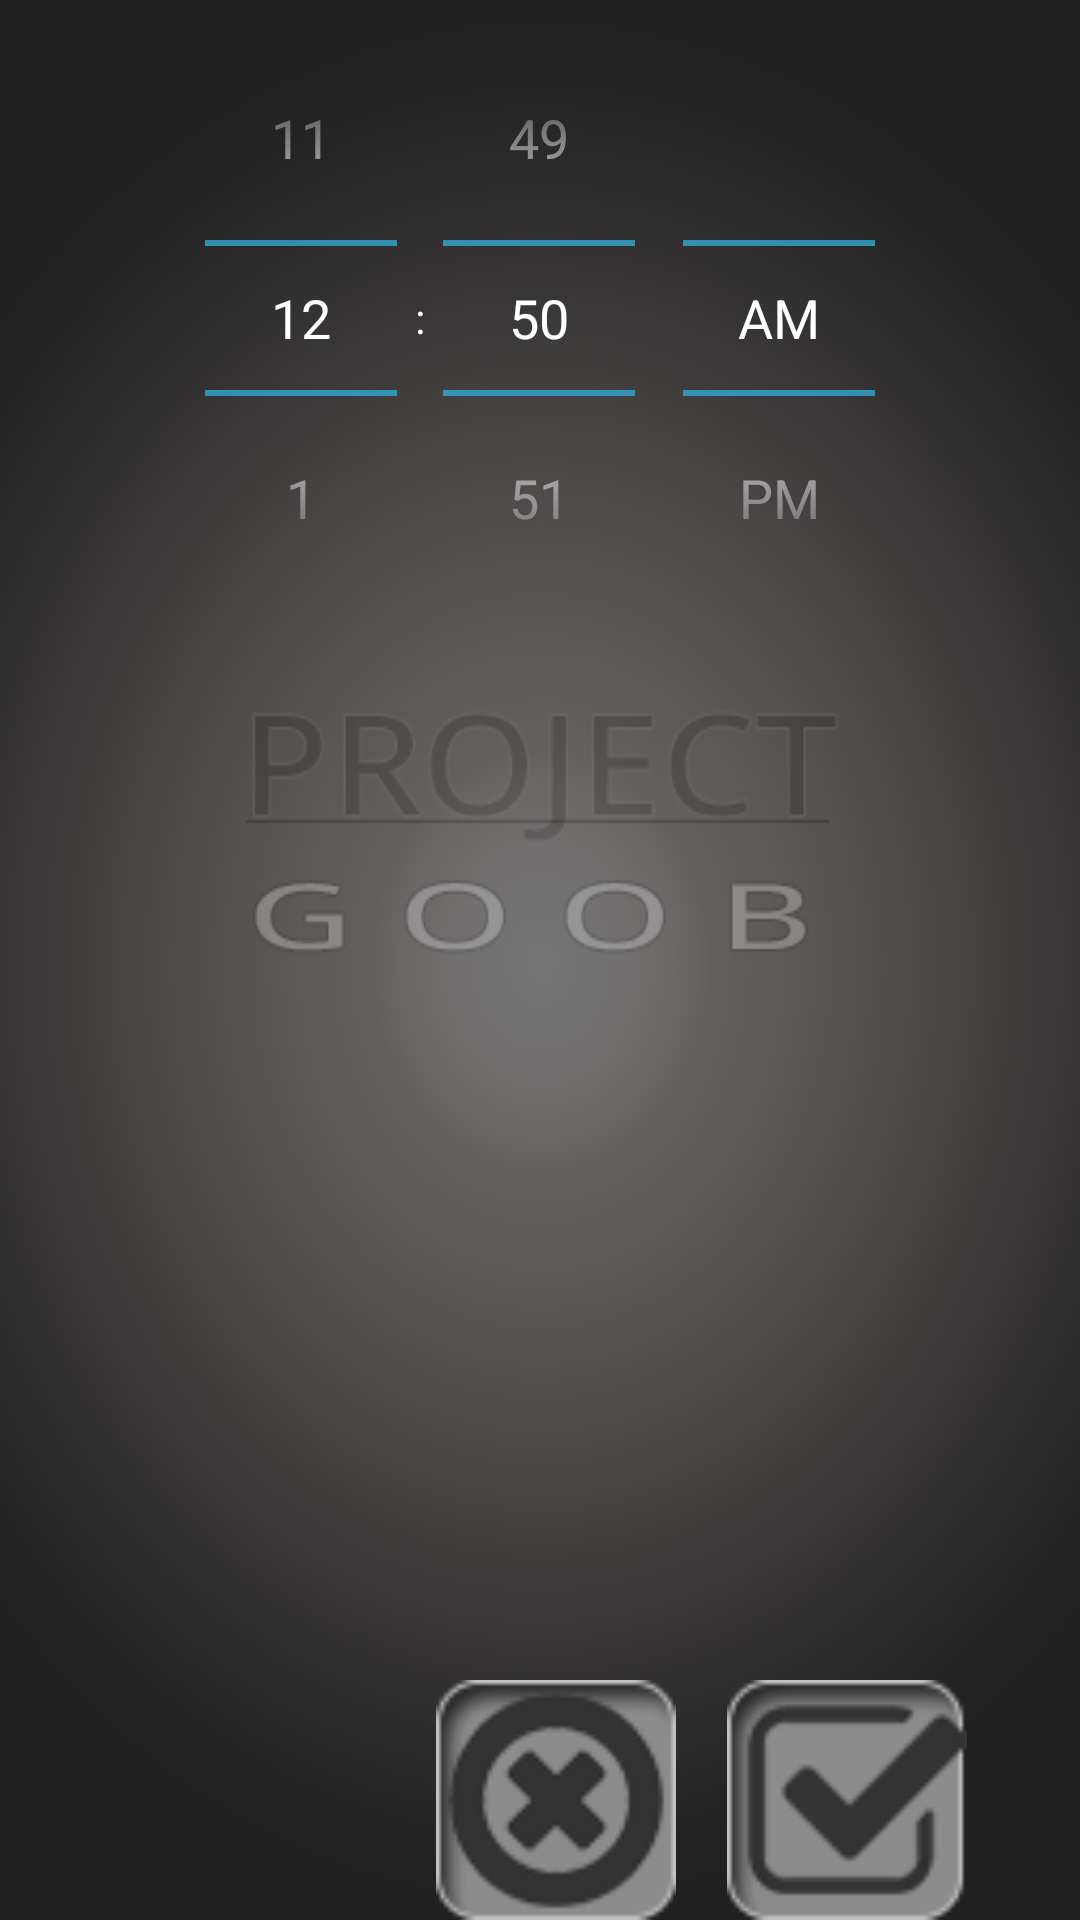

Where icons sit on this 1080 × 1920 app screen, as (x1, y1, x2, y2):
cancel: (436, 1680, 676, 1920)
save: (727, 1680, 966, 1920)
